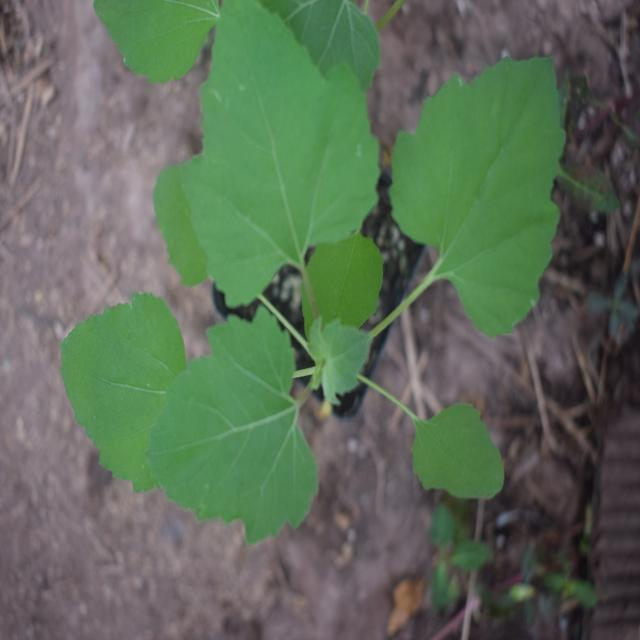cocklebur: (37, 31, 574, 522)
